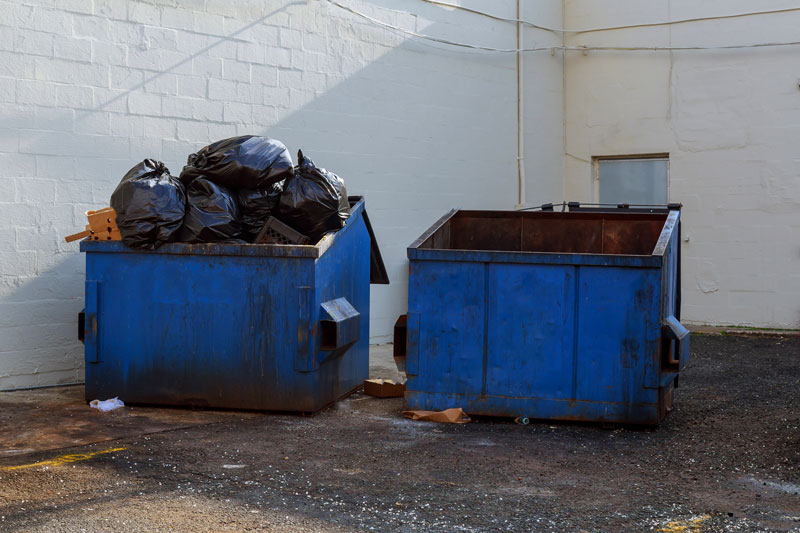Dumpster: (70, 182, 395, 413), (389, 199, 702, 428)
